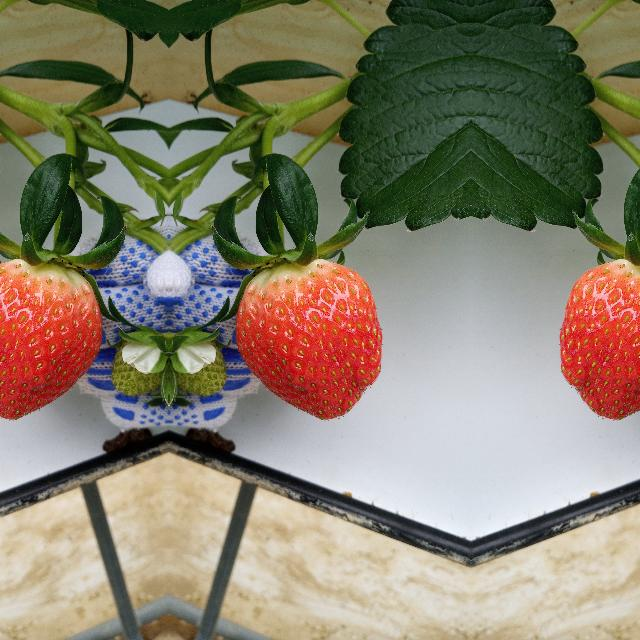Health_100: (234, 260, 382, 420), (0, 259, 102, 420), (558, 259, 640, 420)
Health_25: (173, 326, 227, 420), (109, 326, 163, 420)
